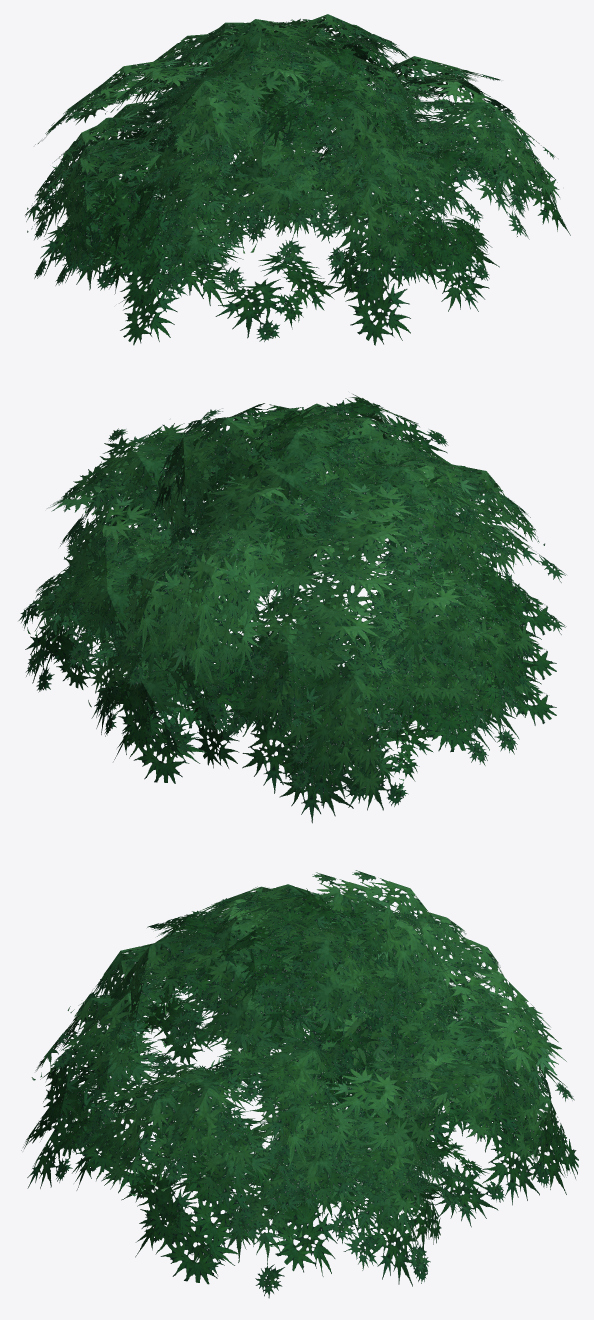
File: Area_10_15.fbx
3 renders of one model, top to bottom at view 1: azimuth 30°, elevation 25°; view 2: azimuth 150°, elevation 25°; view 3: azimuth 270°, elevation 25°, orthographic. The views are drawn at different scales.
Parts seen in each view (by area): view 1: Area_10_15; view 2: Area_10_15; view 3: Area_10_15.
Part boxes in pixels (box(x1,y1,x2,y2)): Area_10_15: box(25, 14, 570, 345); Area_10_15: box(18, 394, 566, 823); Area_10_15: box(21, 870, 578, 1298).
Size of the model in its own units: 2582 by 1515 by 2336.
